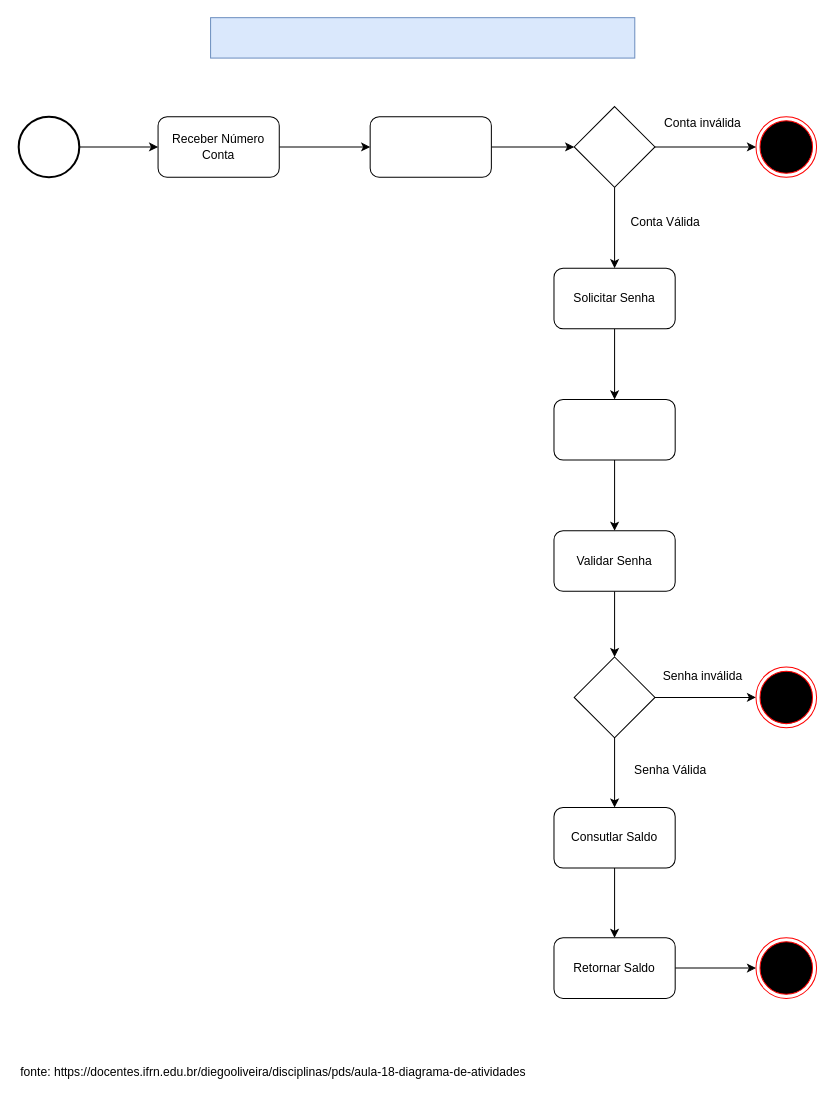
Image size: 834x1116. Some labels were removed from this diagram. The centre of each missing label's shape, as x and y in pixels:
Consultar Conta: [430,146]
Diagrama de Atividade - Consultar Saldo: [422,37]
Receber Senha: [614,429]
